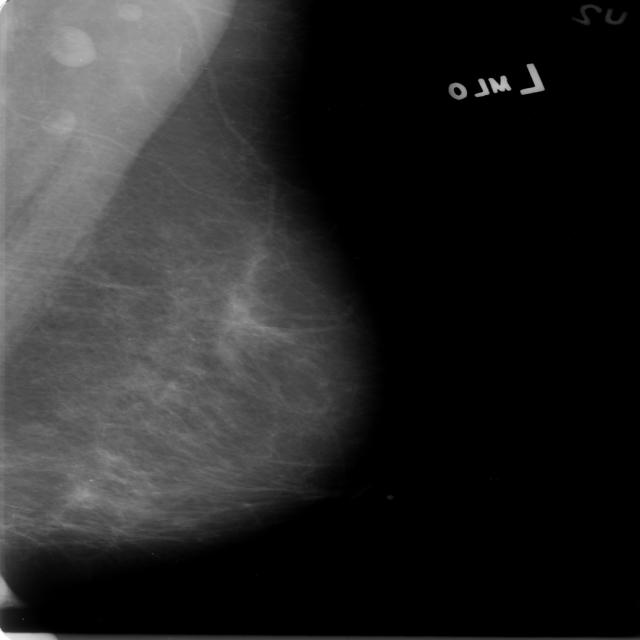normal: (0, 0, 361, 563)
